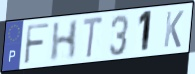1: (136, 9, 153, 55)
3: (108, 13, 130, 58)
F: (22, 22, 51, 66)
H: (49, 18, 81, 63)
K: (162, 9, 186, 49)
T: (82, 15, 105, 61)
